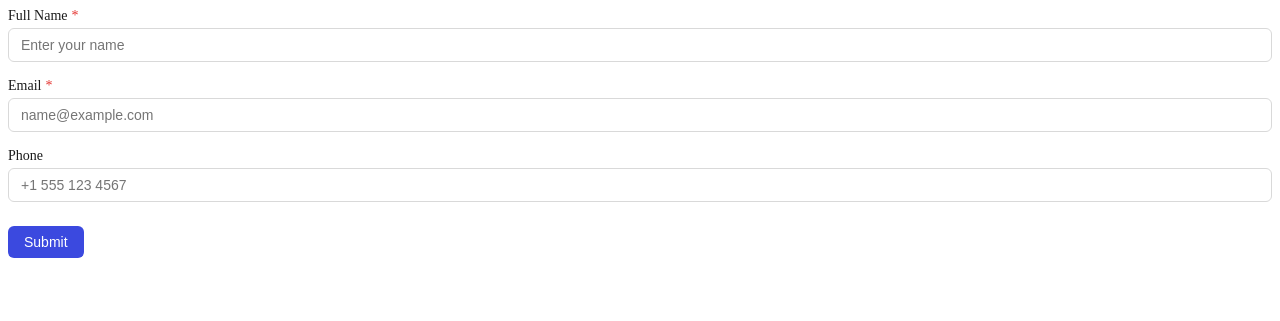
it: components/molecules/form/Form › shows validation errors on submit with empty required fields
Click the button "Submit".
click(46, 242)  # box [8, 226, 84, 258]
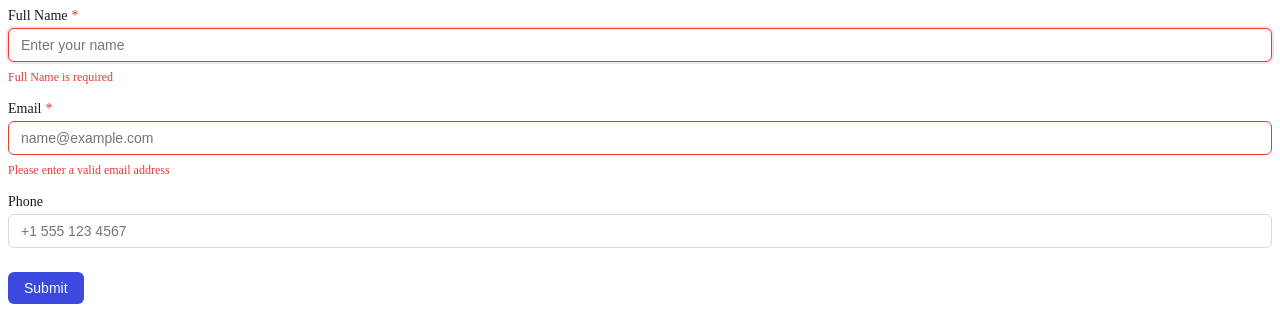
expect the text "Full Name is required" is shown: met, box [8, 70, 113, 84]
